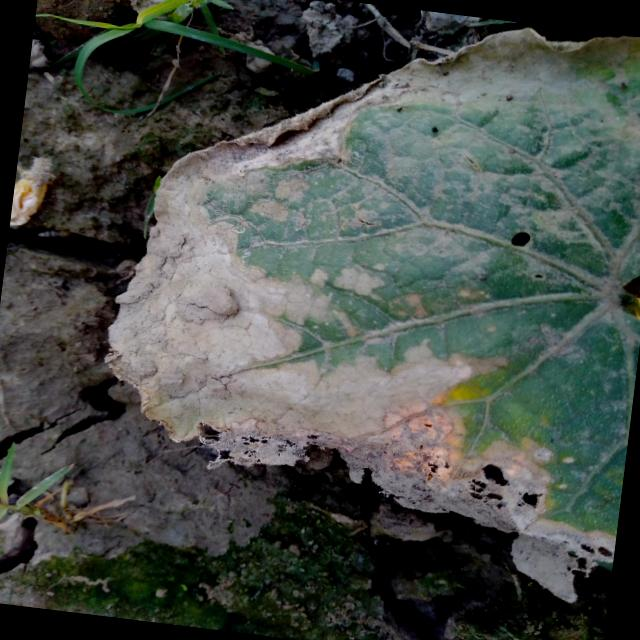cucumber_gummy: (71, 0, 640, 619)
